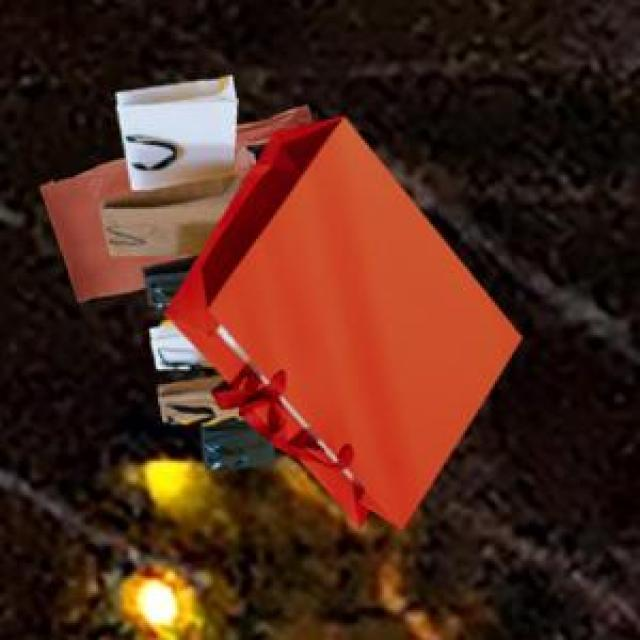paper: (162, 113, 516, 525), (96, 73, 269, 465)
